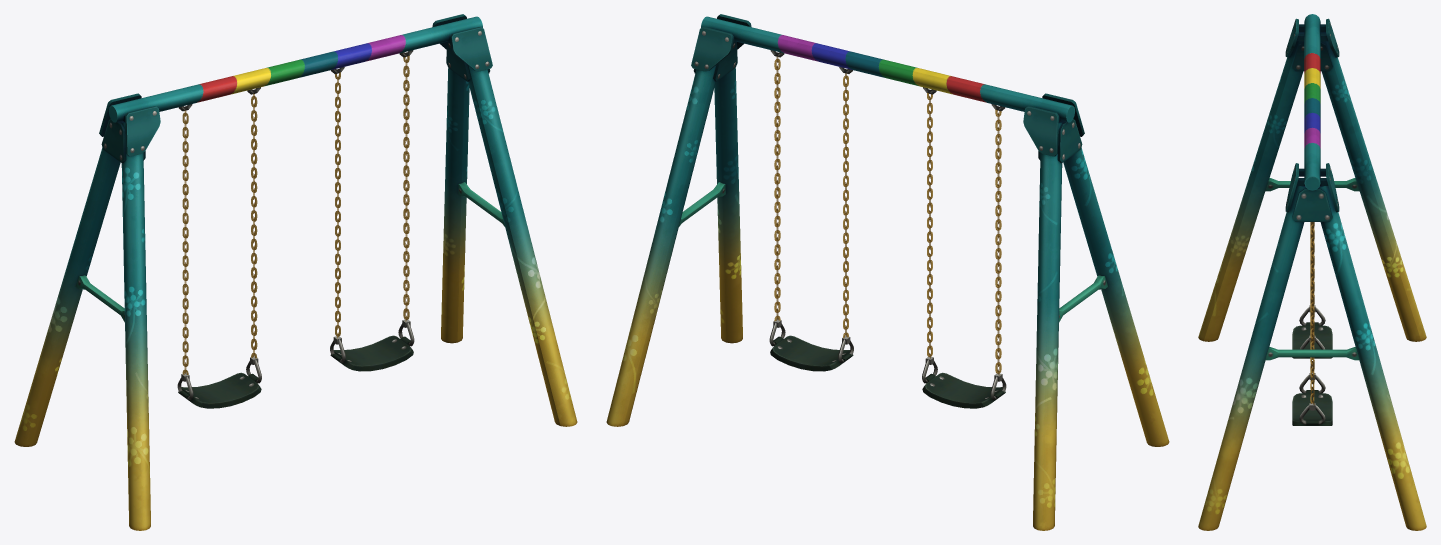
Rendered from syj_zxjianshen02.FBX.
The picture shows the model from 3 angles, left to right: view 1: azimuth 30°, elevation 25°; view 2: azimuth 150°, elevation 25°; view 3: azimuth 270°, elevation 25°; orthographic projection. The views are drawn at different scales.
Visible parts, largest first — view 1: syj_zxjianshen02; view 2: syj_zxjianshen02; view 3: syj_zxjianshen02.
Boxes of the visible parts, x1=… form: syj_zxjianshen02: x1=14, y1=14, x2=577, y2=530; syj_zxjianshen02: x1=606, y1=14, x2=1169, y2=530; syj_zxjianshen02: x1=1198, y1=14, x2=1426, y2=530.
Bounding box in the file's own units: 326 × 260 × 160.
